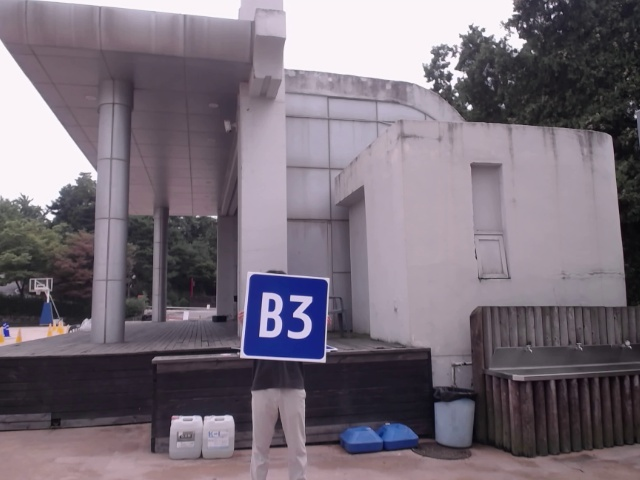delivery_b3: (241, 274, 326, 359)
